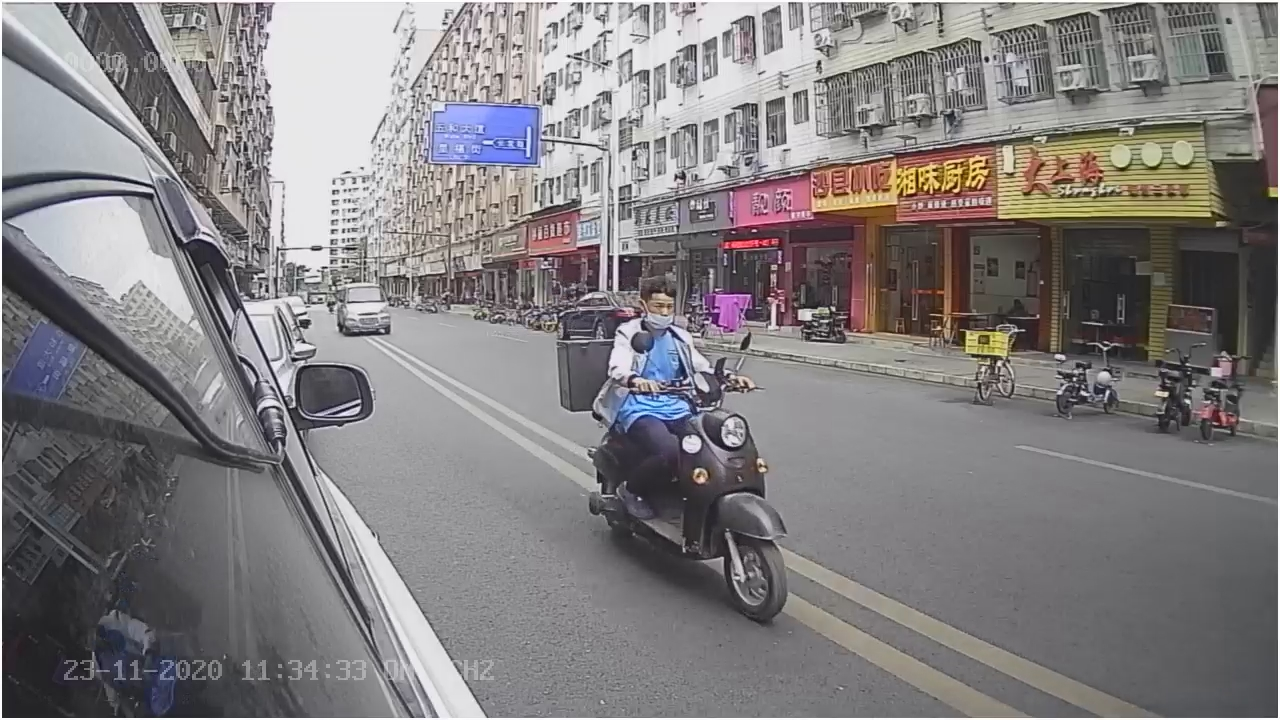person: (605, 275, 704, 401)
